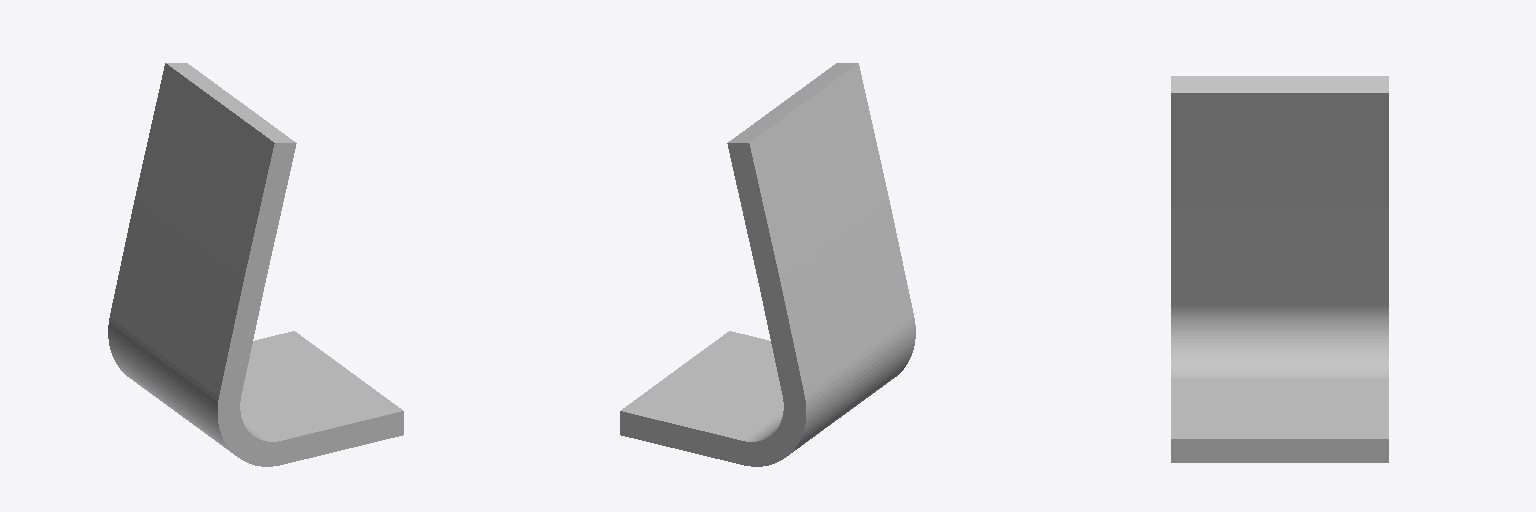
The model's file is Modelo_Peça.obj.
3 renders of one model, left to right at view 1: azimuth 30°, elevation 25°; view 2: azimuth 150°, elevation 25°; view 3: azimuth 270°, elevation 25°, orthographic.
Parts seen in each view (by area): view 1: Piece group1; view 2: Piece group1; view 3: Piece group1.
Boxes of the visible parts, <box> form: Piece group1: <box>108,63,403,466</box>; Piece group1: <box>620,63,915,466</box>; Piece group1: <box>1171,76,1388,462</box>.
Bounding box in the file's own units: 0.9838 × 1.63 × 1.